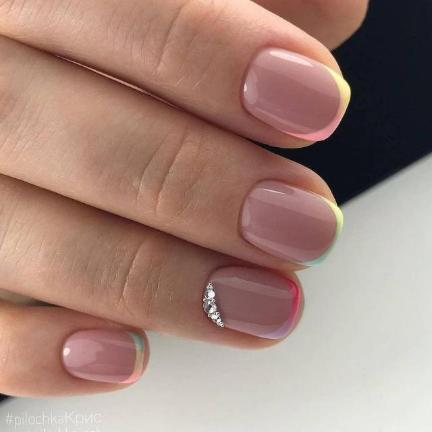Nail: (241, 47, 351, 141), (239, 180, 343, 267), (202, 266, 300, 339), (62, 329, 145, 383)
